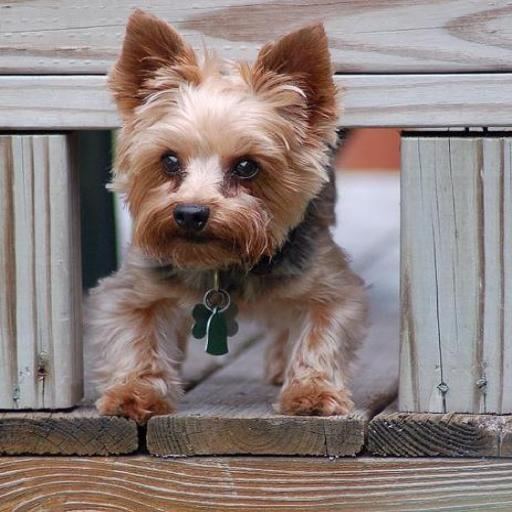dog_face: (102, 13, 334, 261)
